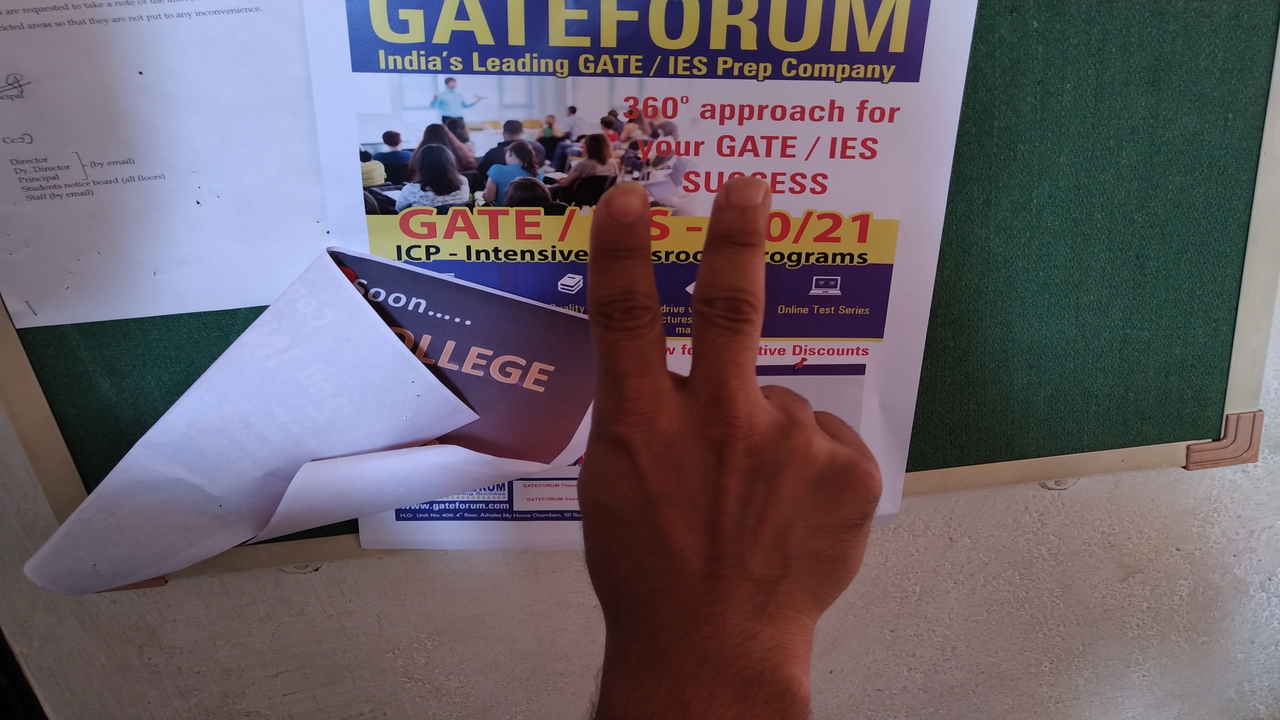fingertip: (710, 168, 776, 232), (594, 172, 654, 236)
